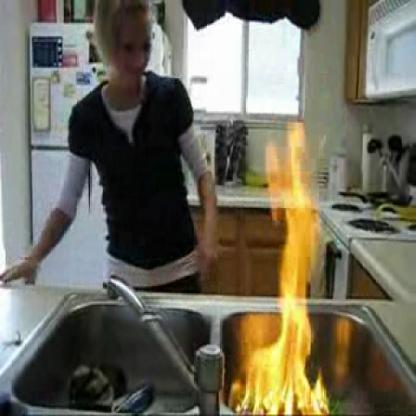Fire: (235, 124, 327, 413)
